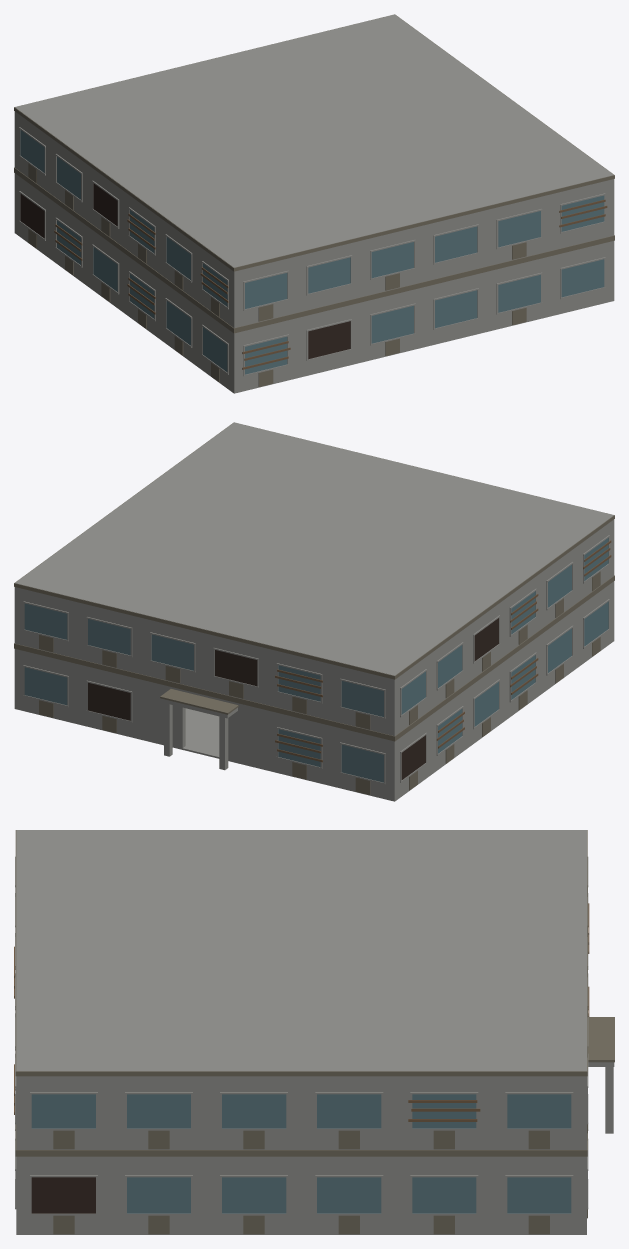
Rendered from tw_slab_24_base.glb.
The picture shows the model from 3 angles, top to bottom: view 1: azimuth 30°, elevation 25°; view 2: azimuth 150°, elevation 25°; view 3: azimuth 270°, elevation 25°; orthographic projection. The views are drawn at different scales.
Visible parts, largest first — view 1: tw_slab_24_base; view 2: tw_slab_24_base; view 3: tw_slab_24_base.
Boxes of the visible parts, x1,y1,x2,y2 form: tw_slab_24_base: [14, 14, 614, 393]; tw_slab_24_base: [14, 422, 614, 801]; tw_slab_24_base: [14, 830, 614, 1234].
Size of what is drawn, in the model's own units: 24.2 by 7.6 by 25.28.
3 materials, 3 textured.
